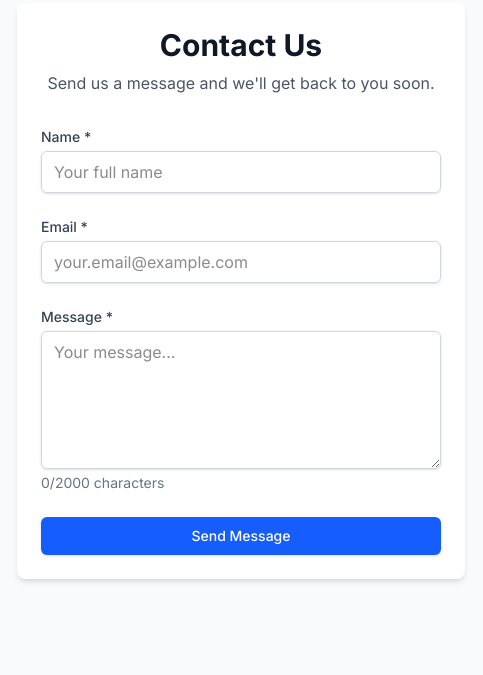
Test: Contact Page › Form Rendering › should show validation errors for empty fields
Click the button "Send Message" at (241, 536), box [41,517,441,555]
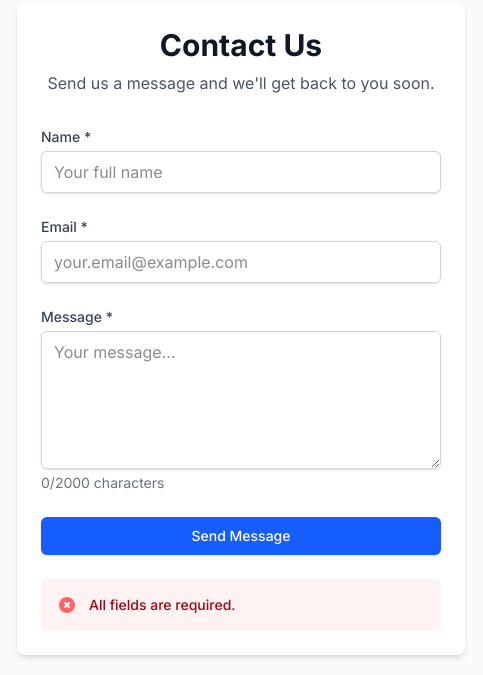
Result: the text "All fields are required." is shown at [89,595,236,615]
